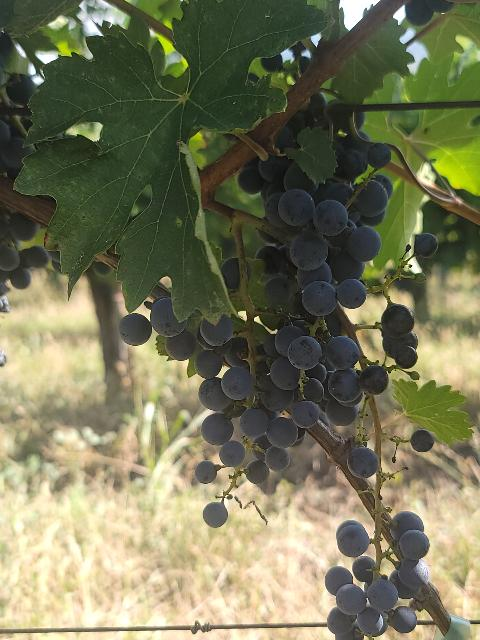grapes: (238, 94, 394, 421), (121, 296, 300, 468)
